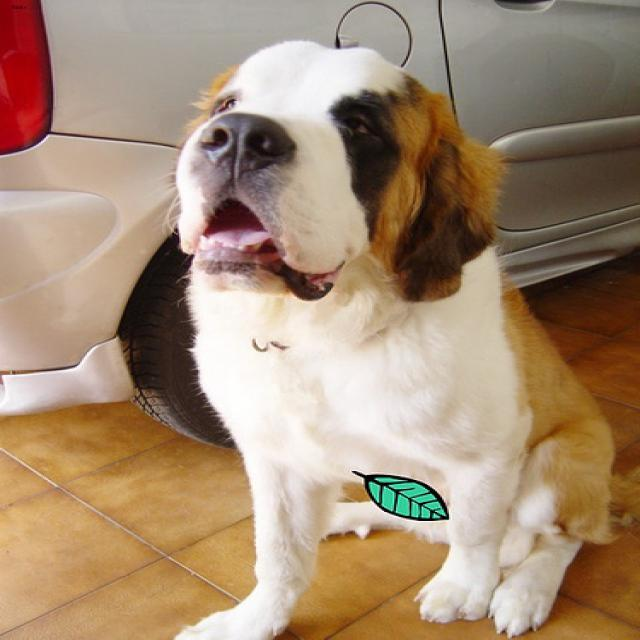dog-saint_bernard: (157, 29, 637, 637)
